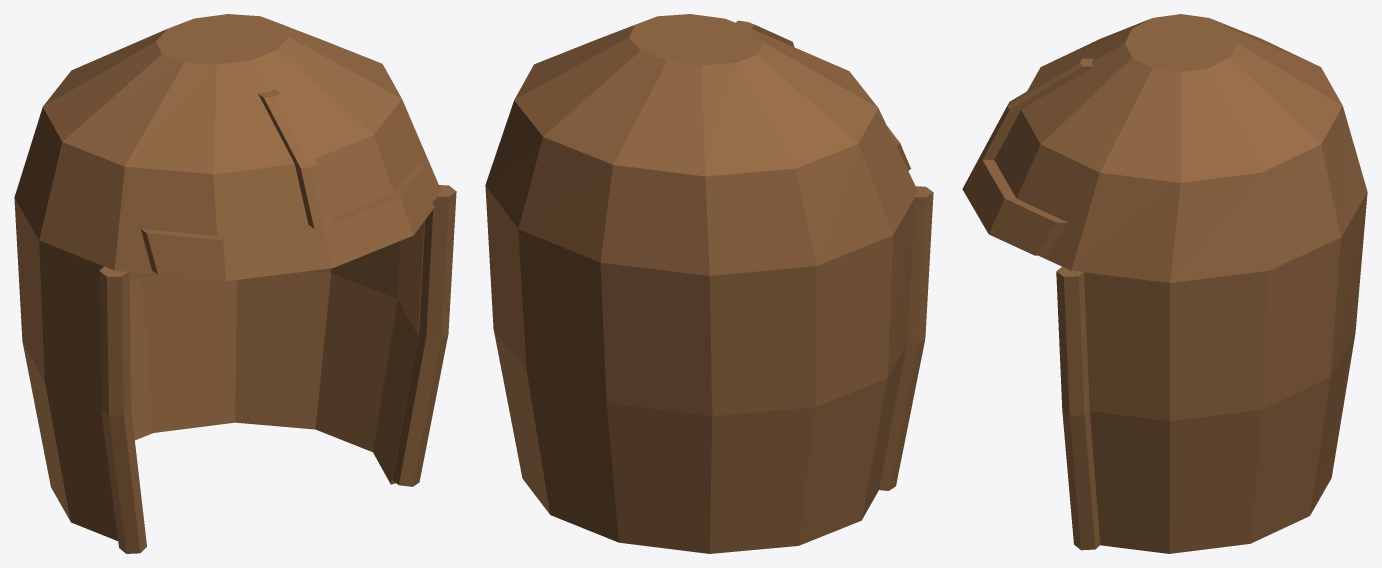
The model's file is leather_head-female.glb.
3 views of the same model, side by side, from view 1: azimuth 30°, elevation 25°; view 2: azimuth 150°, elevation 25°; view 3: azimuth 270°, elevation 25° (orthographic). The views are drawn at different scales.
Visible parts, largest first — view 1: leather joined crown and nape guard, Fitted brow binding, Bound face opening 1, Bound face opening -1, Cap crown sewn seam; view 2: leather joined crown and nape guard, Bound face opening -1; view 3: leather joined crown and nape guard, Bound face opening 1, Fitted brow binding, Cap crown sewn seam.
Boxes of the visible parts, x1,y1,x2,y2 form: leather joined crown and nape guard: (14,14,441,540); Fitted brow binding: (141,161,434,281); Bound face opening 1: (392,185,456,486); Bound face opening -1: (99,266,146,553); Cap crown sewn seam: (258,89,331,228); leather joined crown and nape guard: (485,14,917,553); Bound face opening -1: (879,186,933,490); leather joined crown and nape guard: (994,14,1367,553); Bound face opening 1: (1056,267,1100,550); Fitted brow binding: (962,156,1067,255); Cap crown sewn seam: (980,58,1093,159).
Size of the model in its own units: 0.9613 by 1.08 by 0.9043.
